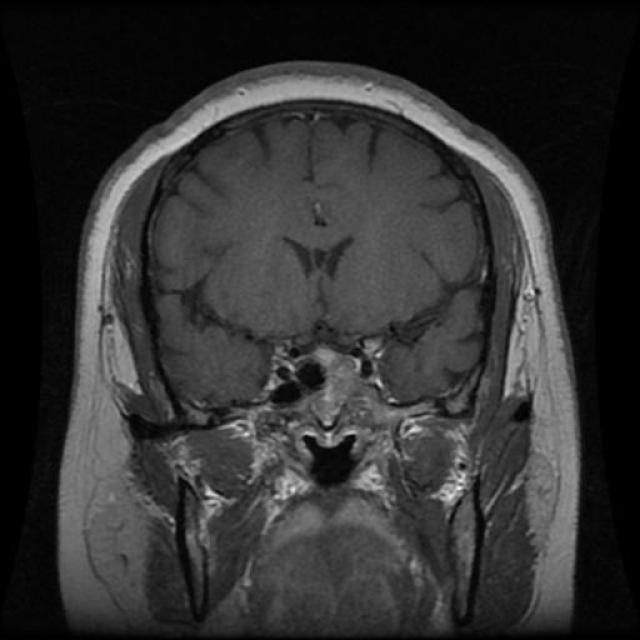pituitary: (258, 340, 399, 414)
